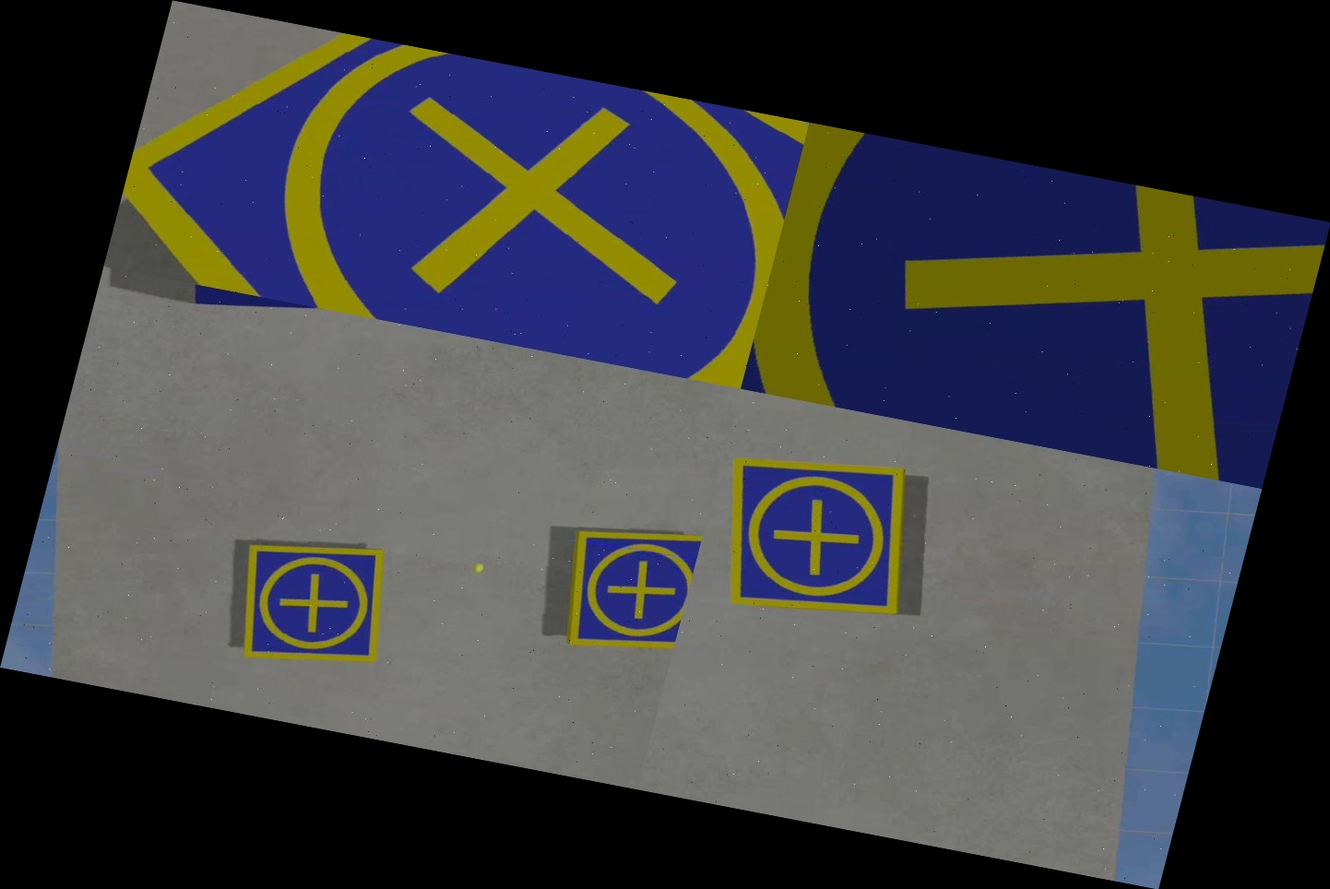large_base: (741, 123, 1330, 489)
small_base: (103, 0, 809, 389), (693, 431, 940, 640), (220, 523, 405, 684), (543, 510, 703, 669)
